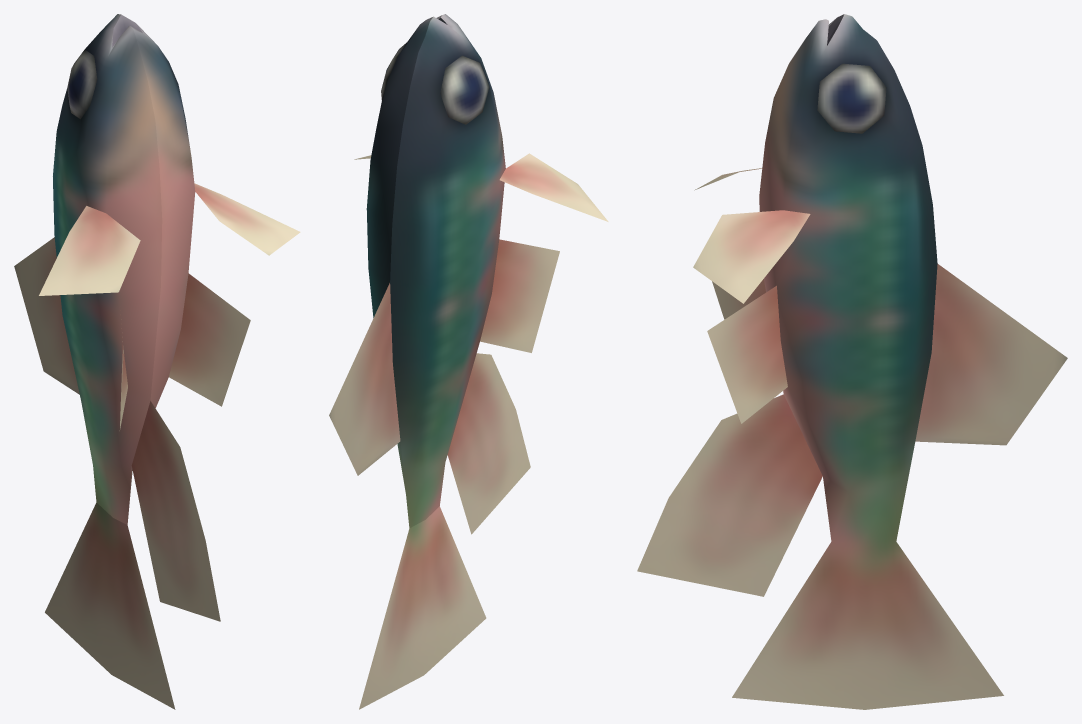
File: pale-chub.glb
3 renders of one model, left to right at view 1: azimuth 30°, elevation 25°; view 2: azimuth 150°, elevation 25°; view 3: azimuth 270°, elevation 25°, orthographic. The views are drawn at different scales.
Visible parts, largest first — view 1: FishOikawa_node6; view 2: FishOikawa_node6; view 3: FishOikawa_node6.
Part boxes in pixels (x1=…): FishOikawa_node6: x1=14, y1=14, x2=300, y2=709; FishOikawa_node6: x1=329, y1=14, x2=608, y2=709; FishOikawa_node6: x1=637, y1=14, x2=1067, y2=709.
Bounding box in the file's own units: 1.27 × 3.09 × 1.73.
1 material, 1 textured.
